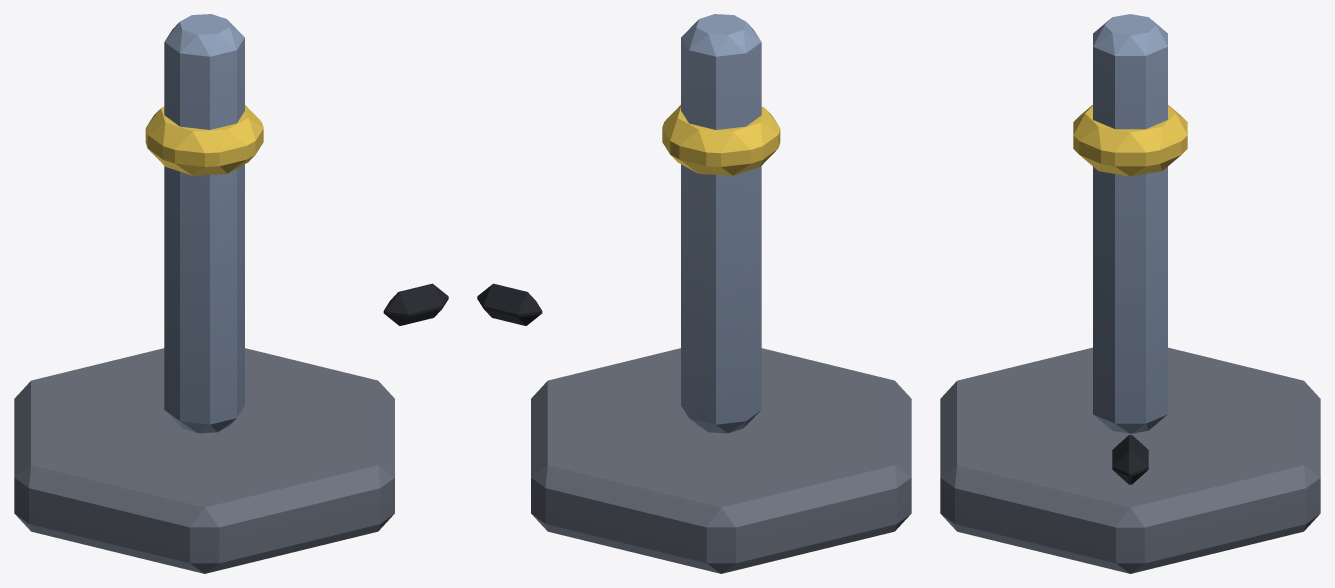
The model's file is bunsen_burner.glb.
3 renders of one model, left to right at view 1: azimuth 30°, elevation 25°; view 2: azimuth 150°, elevation 25°; view 3: azimuth 270°, elevation 25°, orthographic.
Parts seen in each view (by area): view 1: bunsen_burner; view 2: bunsen_burner; view 3: bunsen_burner.
Boxes of the visible parts, left/top/right/bottom form: bunsen_burner: left=14, top=14, right=448, bottom=573; bunsen_burner: left=477, top=14, right=911, bottom=573; bunsen_burner: left=940, top=14, right=1320, bottom=573.
Size of the model in its own units: 0.2016 by 0.21 by 0.1559.
Materials: 1 (1 with a texture image).
